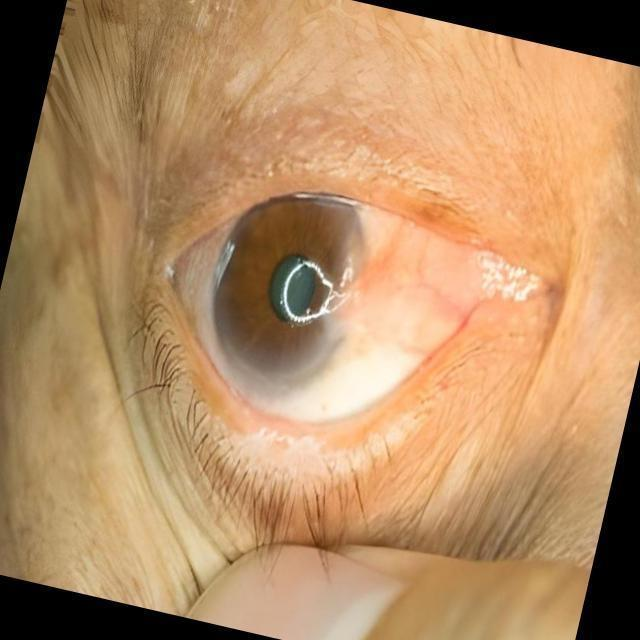Pterygium: (289, 199, 515, 417)
